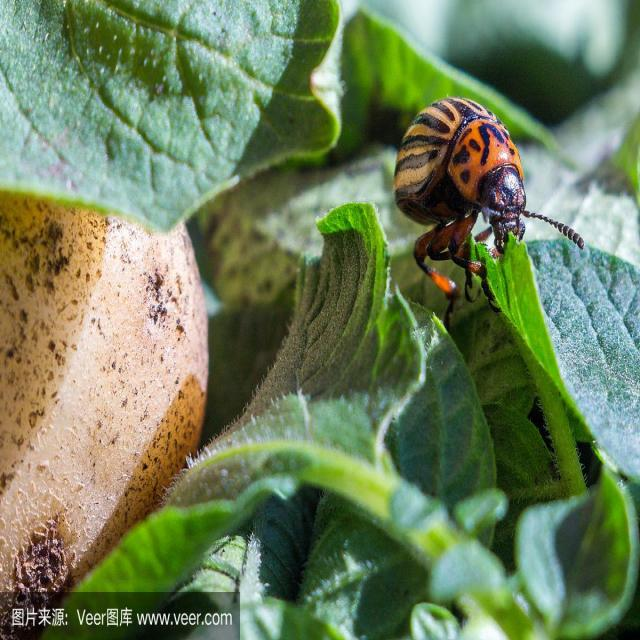ShuCaiHuaBanChong-Grown-: (387, 71, 558, 318)
